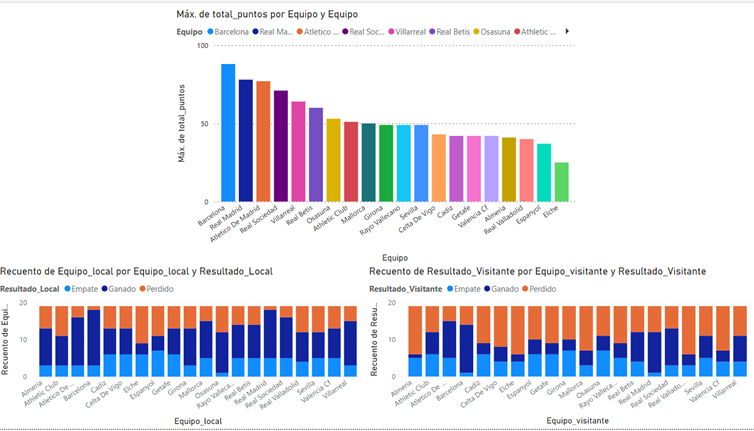

The page's visual inventory and layout, read from the dashboard file:
{"tool":"powerbi","page":{"name":"Página 4","canvas":[1280,720],"ordinal":3},"visuals":[{"type":"columnChart","fields":{"Y":["Max(clasificacion.total_puntos)"],"Category":["clasificacion.Equipo"],"Series":["clasificacion.Equipo"]},"box":[297.5,11.1,682.7,433.3],"z":0},{"type":"columnChart","fields":{"Category":["resultados.Equipo_local"],"Series":["resultados.Resultado_Local"],"Y":["CountNonNull(resultados.Equipo_local)"]},"box":[0,444.4,622.2,275.3],"z":1000},{"type":"columnChart","fields":{"Category":["resultados.Equipo_visitante"],"Series":["resultados.Resultado_Visitante"],"Y":["CountNonNull(resultados.Resultado_Visitante)"]},"box":[622.2,444.4,658,274.1],"z":2000}]}

Visuals, with their boxes in screenshot pixels (x1, y1, x2, y2), scaled from the page's 1280x720 canvas onto the 754x431 screenshot:
columnChart - Max(clasificacion.total_puntos) x clasificacion.Equipo: {"x1": 175, "y1": 7, "x2": 577, "y2": 266}
columnChart - resultados.Equipo_local x resultados.Resultado_Local: {"x1": 0, "y1": 266, "x2": 367, "y2": 430}
columnChart - resultados.Equipo_visitante x resultados.Resultado_Visitante: {"x1": 367, "y1": 266, "x2": 753, "y2": 430}
